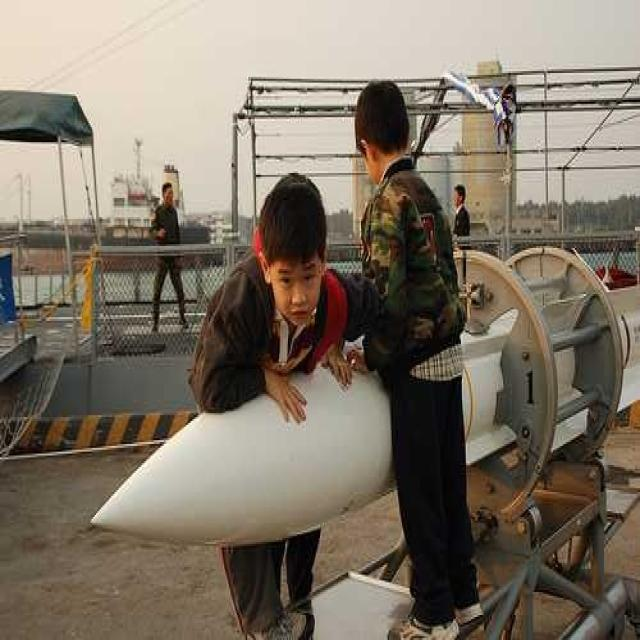missile: (93, 242, 634, 545)
